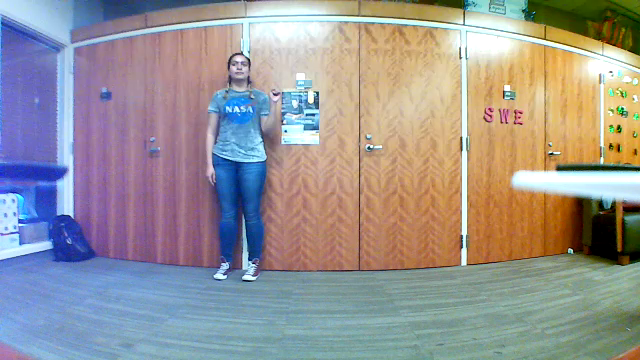up: (264, 78, 283, 103)
